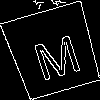M: (28, 25, 84, 82)
